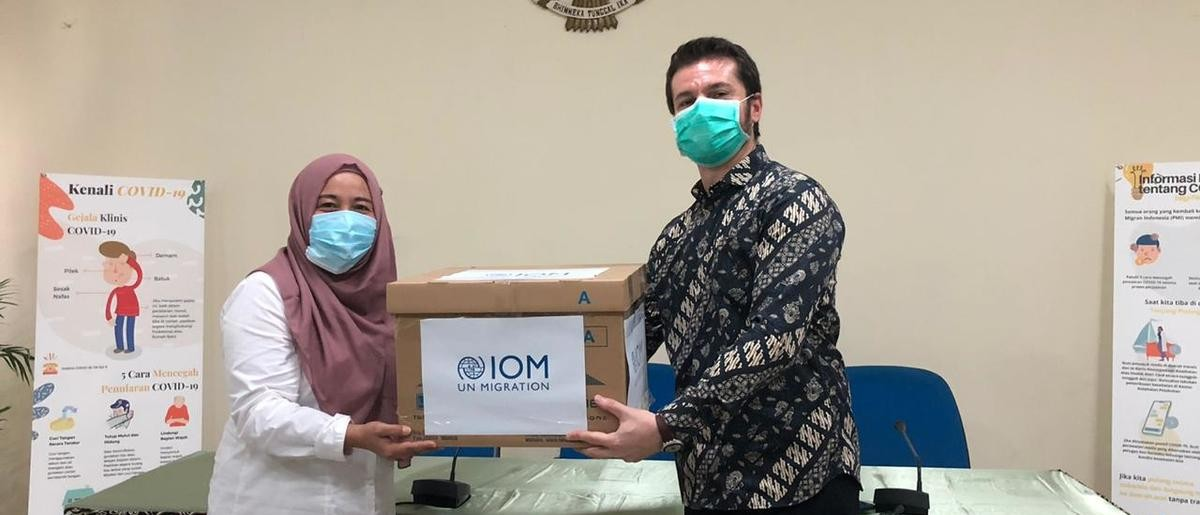with_mask: (672, 74, 750, 163), (304, 191, 376, 272)
